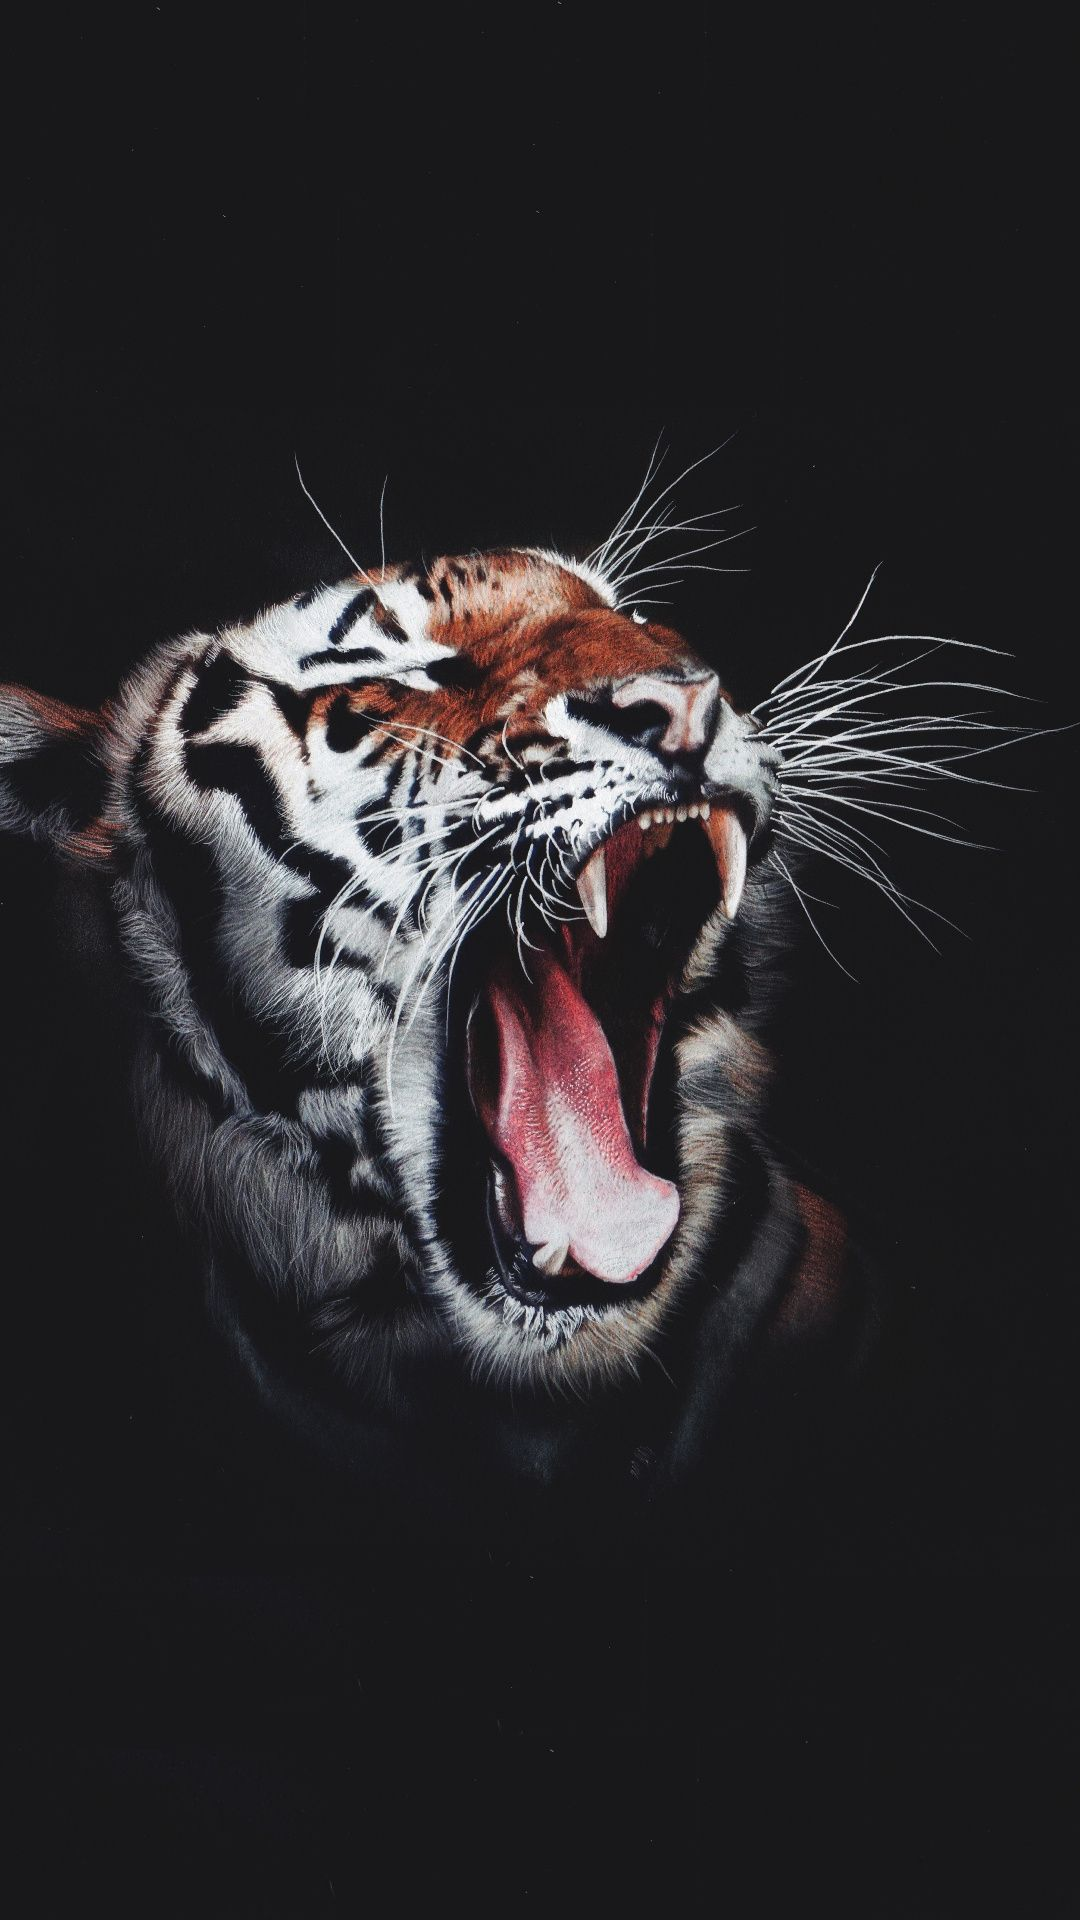Tigrew: (123, 429, 882, 1596)
